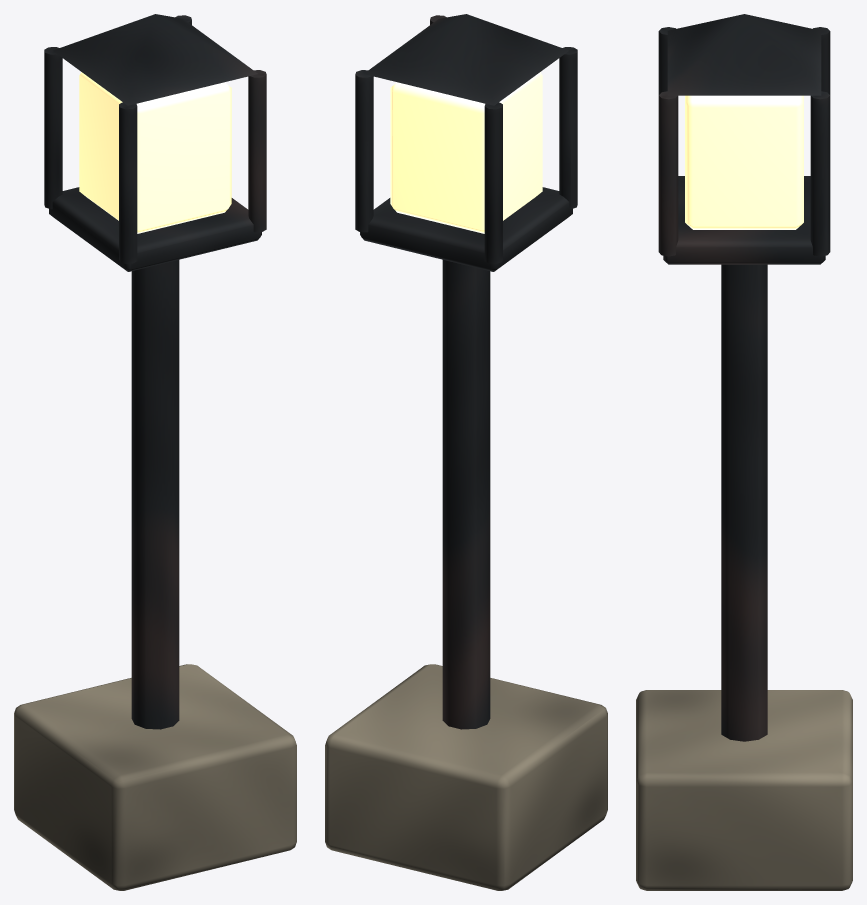
File: Furn_Spa_Lantern.fbx
3 renders of one model, left to right at view 1: azimuth 30°, elevation 25°; view 2: azimuth 150°, elevation 25°; view 3: azimuth 270°, elevation 25°, orthographic.
Visible parts, largest first — view 1: Furn_Spa_Lantern; view 2: Furn_Spa_Lantern; view 3: Furn_Spa_Lantern.
Part boxes in pixels (x1,y1,x2,y2): Furn_Spa_Lantern: (14, 14, 296, 890); Furn_Spa_Lantern: (325, 14, 607, 890); Furn_Spa_Lantern: (636, 14, 852, 890).
Size of the model in its own units: 0.4 by 1.7 by 0.4.
Materials: 3 (2 with a texture image).
